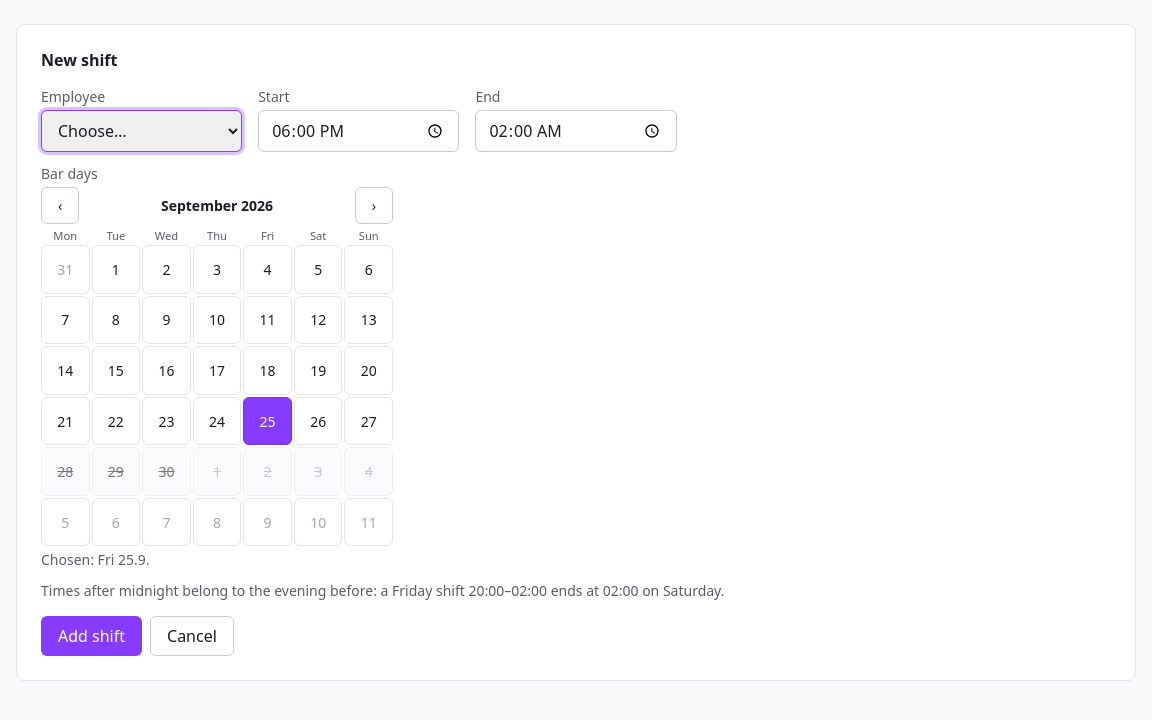
a shift ending before it starts is refused
Select "Anna (manager)" in the dropdown labelled "Employee" at (142, 131), box top-left (41, 110), bottom-right (242, 152)
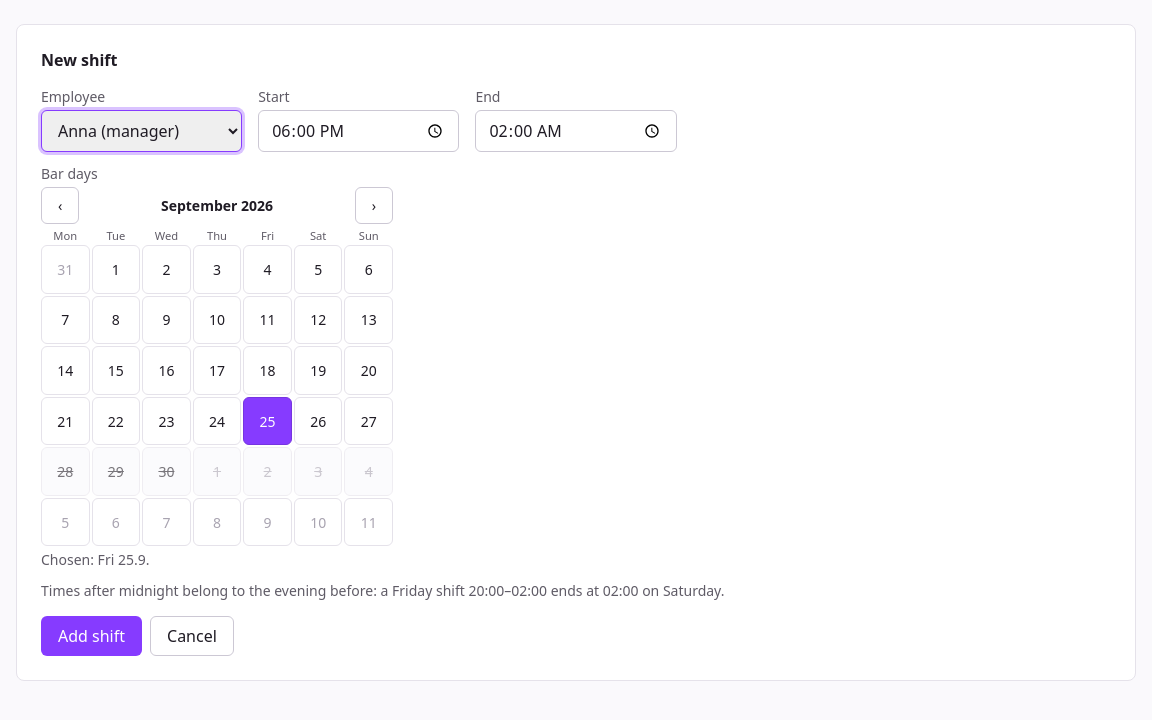
Replace the text in the time field labelled "End" with "12:00" at (576, 131), box top-left (475, 110), bottom-right (677, 152)
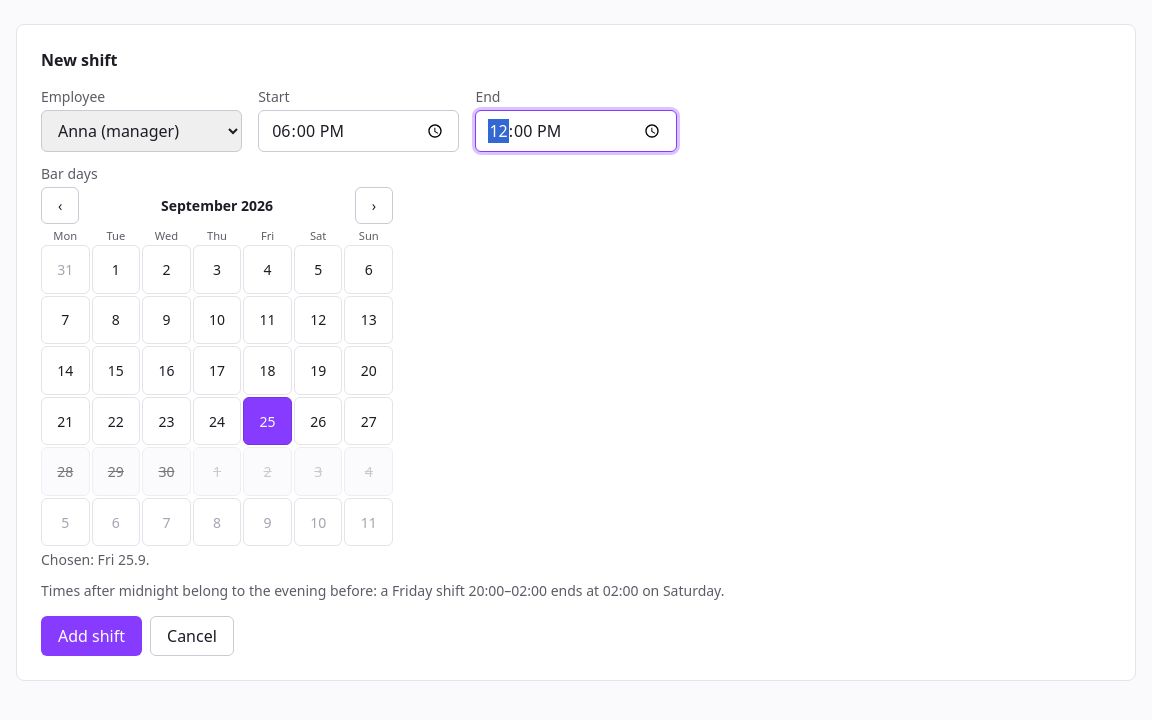
Click the button "Add shift".
click(92, 636)  # box top-left (41, 616), bottom-right (142, 656)
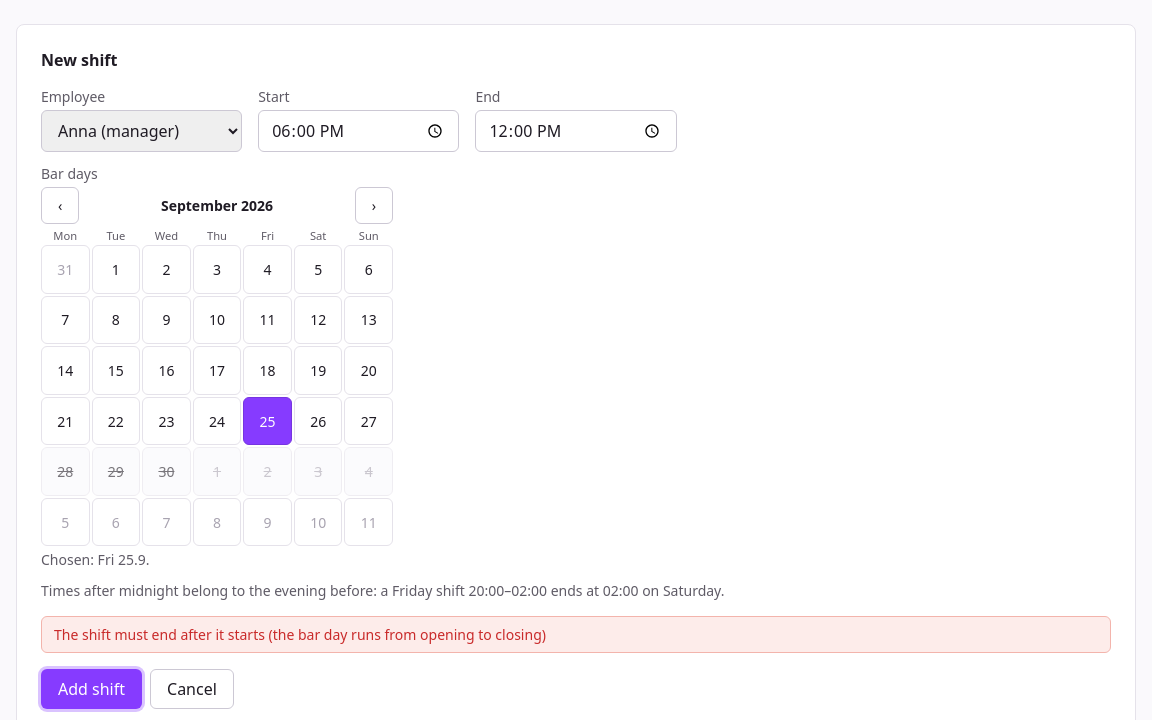
Check: the message shows "must end after it starts", box top-left (54, 626), bottom-right (546, 644)
